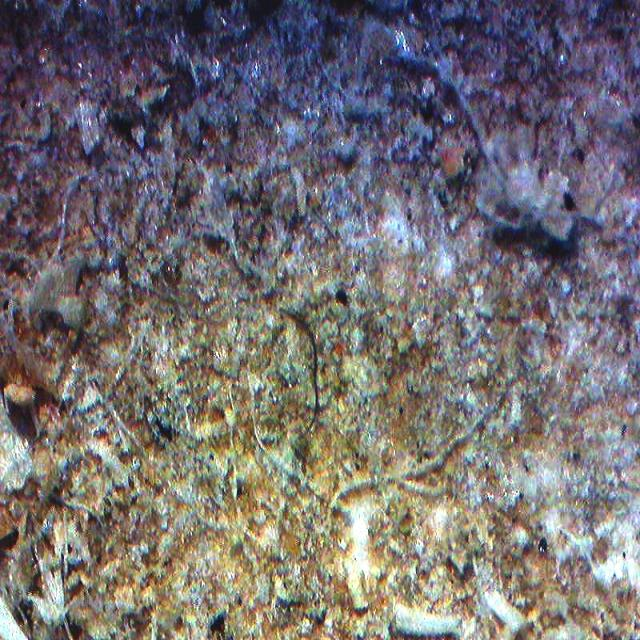microplastic: (287, 312, 319, 429)
